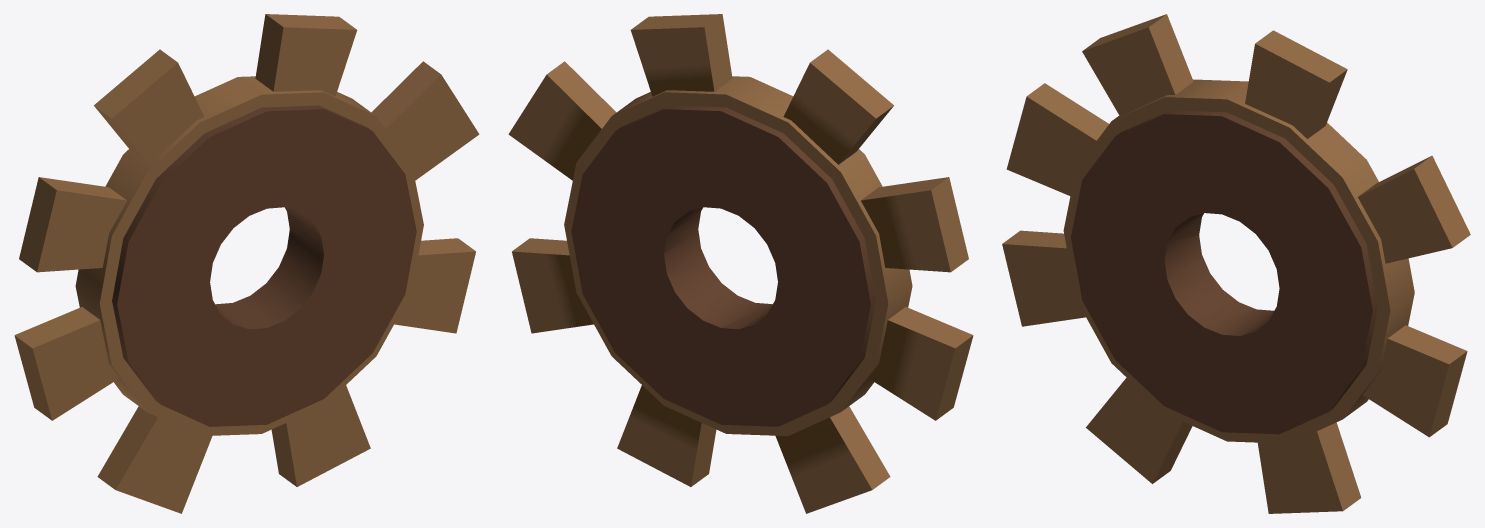
The model's file is tandwiel_01.fbx.
The picture shows the model from 3 angles, left to right: view 1: azimuth 30°, elevation 25°; view 2: azimuth 150°, elevation 25°; view 3: azimuth 330°, elevation 25°; orthographic projection.
Visible parts, largest first — view 1: pCylinder7; view 2: pCylinder7; view 3: pCylinder7.
Boxes of the visible parts, x1=… form: pCylinder7: x1=14, y1=14, x2=479, y2=513; pCylinder7: x1=508, y1=14, x2=973, y2=513; pCylinder7: x1=1002, y1=14, x2=1470, y2=513.
Bounding box in the file's own units: 3.71 × 3.67 × 0.4934.
